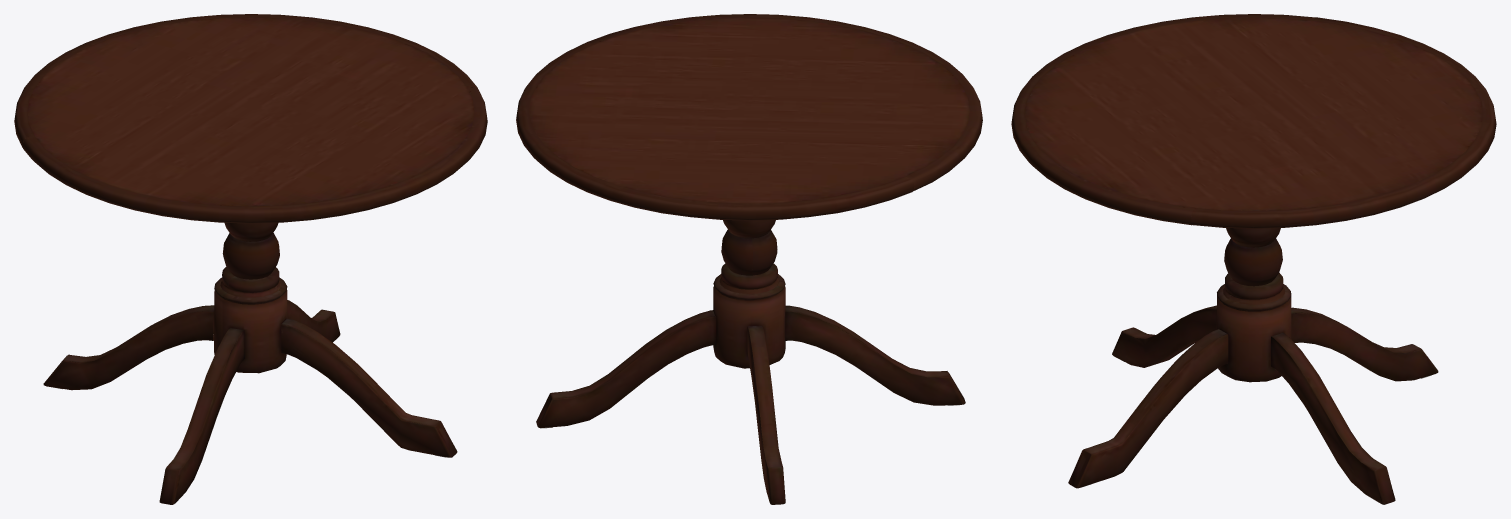
File: round_table.glb
3 views of the same model, side by side, from view 1: azimuth 30°, elevation 25°; view 2: azimuth 150°, elevation 25°; view 3: azimuth 270°, elevation 25° (orthographic). The views are drawn at different scales.
Visible parts, largest first — view 1: round_wooden_table_01; view 2: round_wooden_table_01; view 3: round_wooden_table_01.
Boxes of the visible parts, left/top/right/bottom form: round_wooden_table_01: left=14, top=14, right=487, bottom=504; round_wooden_table_01: left=516, top=14, right=982, bottom=504; round_wooden_table_01: left=1011, top=14, right=1496, bottom=504.
Size of the model in its own units: 1.4 by 1 by 1.4.
1 material, 1 textured.
